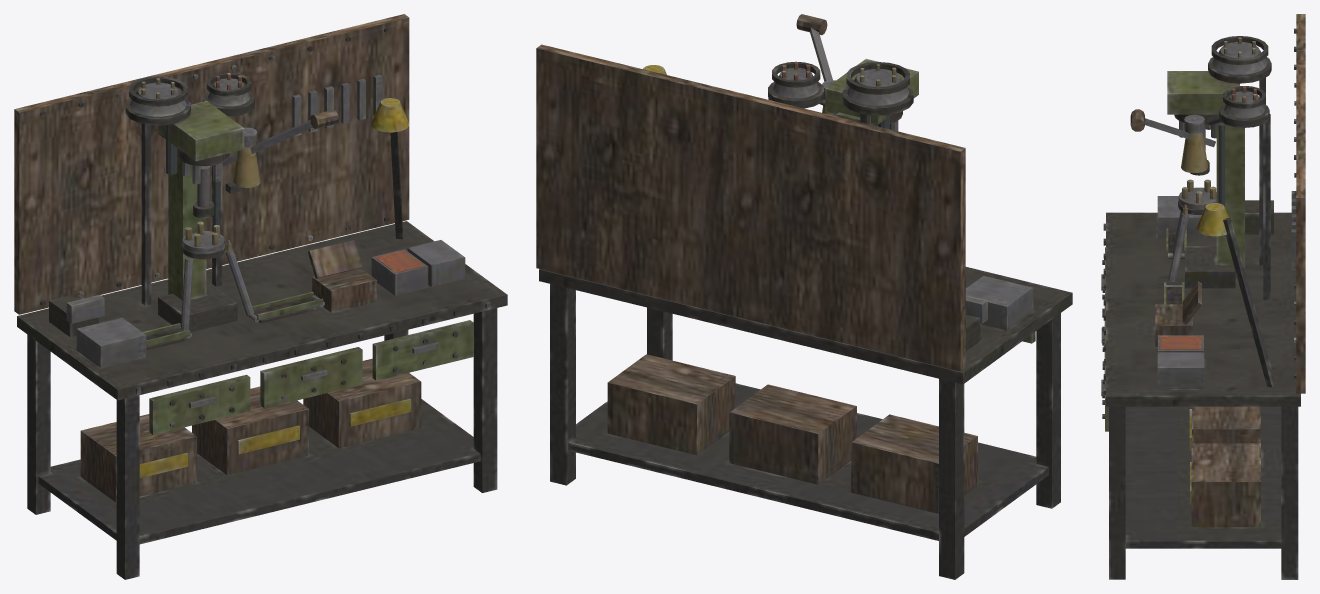
The model's file is feM_Ammo.glb.
3 views of the same model, side by side, from view 1: azimuth 30°, elevation 25°; view 2: azimuth 150°, elevation 25°; view 3: azimuth 270°, elevation 25° (orthographic). The views are drawn at different scales.
Parts seen in each view (by area): view 1: feM_Ammo_Base, FeSpin_x0.3_CaseBowl, FeSpin_x0.3_BulletBowl, FeSpin_x0.5_Turret, FePiston_Ram; view 2: feM_Ammo_Base, FeSpin_x0.3_CaseBowl, FeSpin_x0.3_BulletBowl; view 3: feM_Ammo_Base, FeSpin_x0.3_CaseBowl, FeSpin_x0.3_BulletBowl, FeSpin_x0.5_Turret.
Part boxes in pixels (x1,y1,x2,y2): feM_Ammo_Base: (14, 14, 507, 579); FeSpin_x0.3_CaseBowl: (129, 76, 187, 116); FeSpin_x0.3_BulletBowl: (206, 73, 251, 106); FeSpin_x0.5_Turret: (182, 221, 224, 253); FePiston_Ram: (193, 166, 214, 218); feM_Ammo_Base: (536, 14, 1072, 579); FeSpin_x0.3_CaseBowl: (846, 62, 909, 105); FeSpin_x0.3_BulletBowl: (772, 61, 820, 98); feM_Ammo_Base: (1101, 14, 1305, 579); FeSpin_x0.3_CaseBowl: (1211, 36, 1268, 74); FeSpin_x0.3_BulletBowl: (1223, 86, 1265, 118); FeSpin_x0.5_Turret: (1178, 179, 1216, 209).
Bounding box in the file's own units: 1.92 × 1.98 × 0.9024.
Materials: 1 (1 with a texture image).
